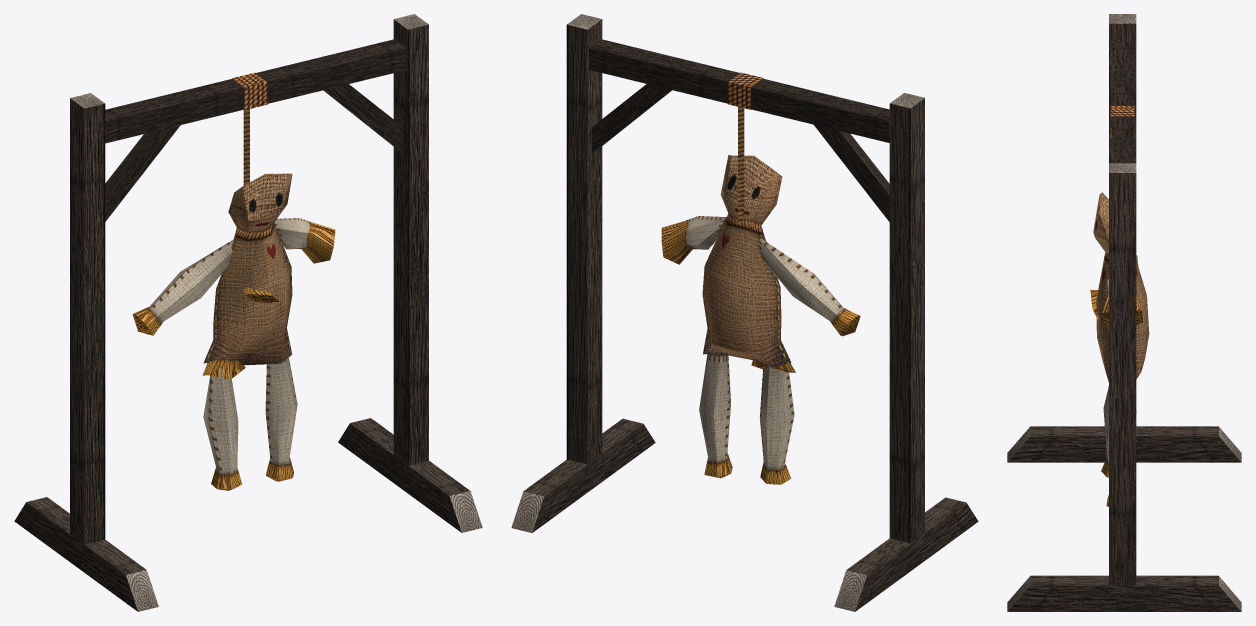
Rendered from mm9_deco_strawdummy2c.glb.
3 renders of one model, left to right at view 1: azimuth 30°, elevation 25°; view 2: azimuth 150°, elevation 25°; view 3: azimuth 270°, elevation 25°, orthographic. The views are drawn at different scales.
Parts seen in each view (by area): view 1: Strawdummy2c; view 2: Strawdummy2c; view 3: Strawdummy2c.
Part boxes in pixels (<box>): Strawdummy2c: <box>14,14,482,611</box>; Strawdummy2c: <box>511,14,978,611</box>; Strawdummy2c: <box>1007,14,1241,611</box>.
Bounding box in the file's own units: 2.53 × 3.25 × 1.57.
Materials: 2 (2 with a texture image).
